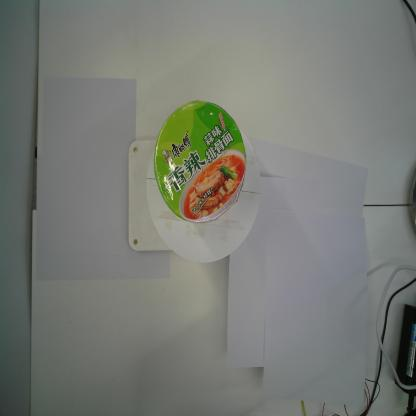Instant Noodles: (152, 98, 250, 225)
